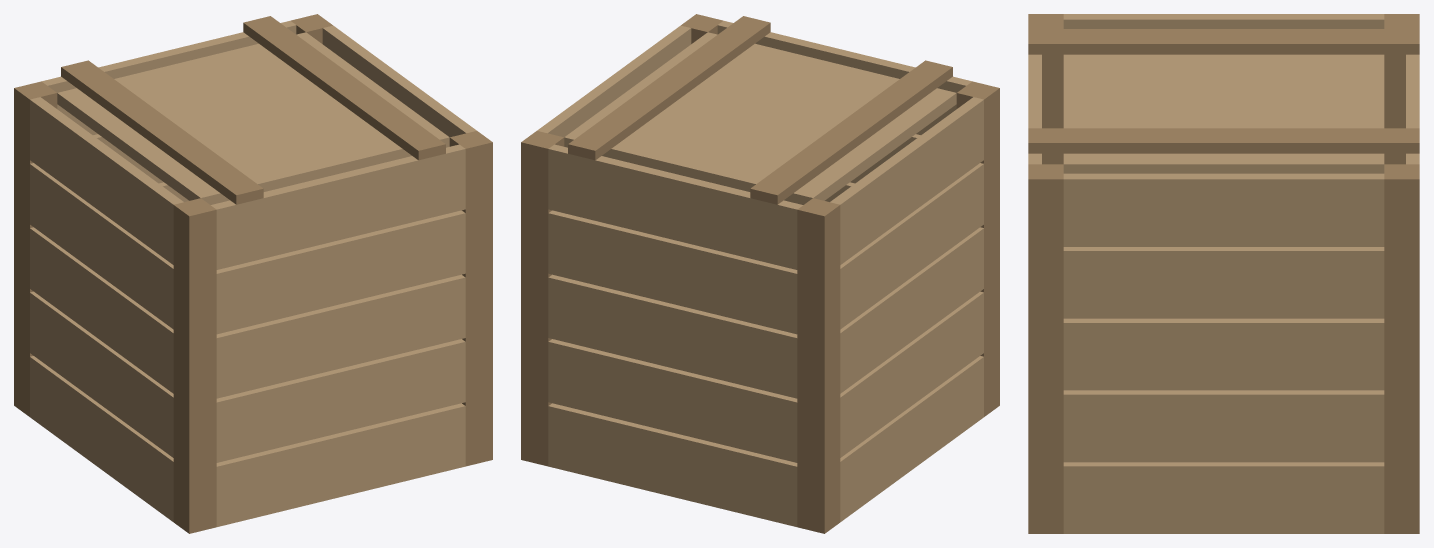
Rendered from dm_wood_crate_cube.glb.
3 views of the same model, side by side, from view 1: azimuth 30°, elevation 25°; view 2: azimuth 150°, elevation 25°; view 3: azimuth 270°, elevation 25° (orthographic). The views are drawn at different scales.
Visible parts, largest first — view 1: WoodCrate; view 2: WoodCrate; view 3: WoodCrate.
Boxes of the visible parts, x1,y1,x2,y2 form: WoodCrate: [14, 14, 492, 533]; WoodCrate: [521, 14, 999, 533]; WoodCrate: [1028, 14, 1419, 533].
Bounding box in the file's own units: 1 × 1.03 × 1.
